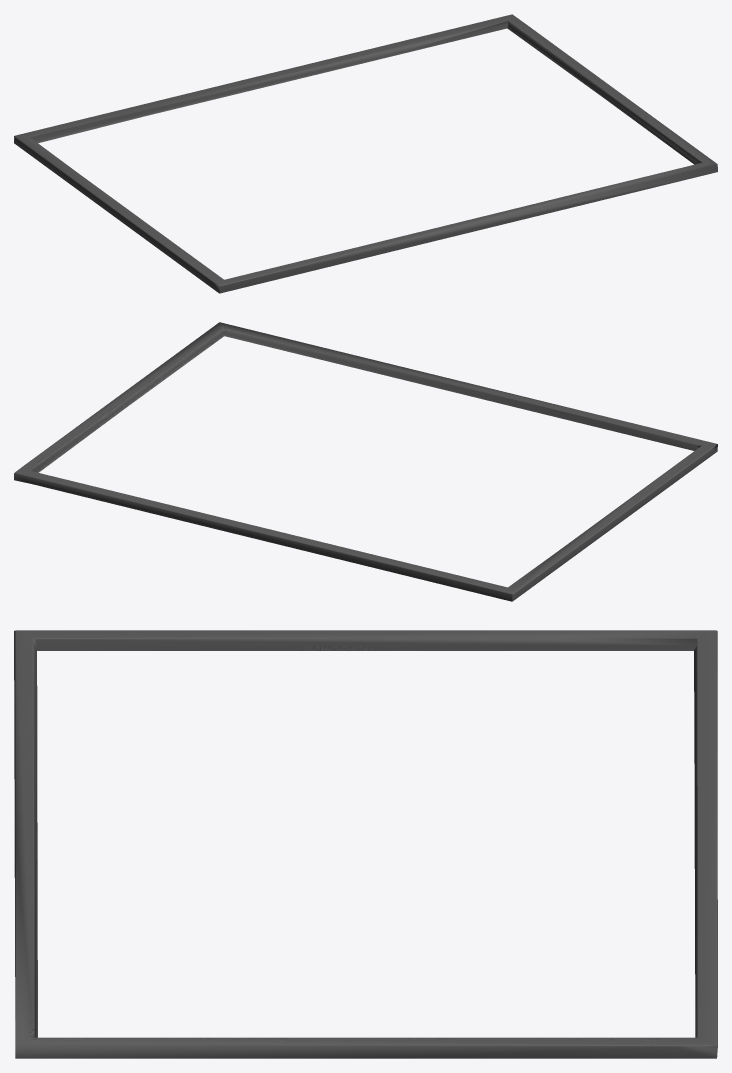
The model's file is s645bh1qbnee.glb.
3 renders of one model, top to bottom at view 1: azimuth 30°, elevation 25°; view 2: azimuth 150°, elevation 25°; view 3: azimuth 270°, elevation 25°, orthographic. The views are drawn at different scales.
Visible parts, largest first — view 1: ProcessedMeshNode; view 2: ProcessedMeshNode; view 3: ProcessedMeshNode.
Boxes of the visible parts, <box> form: ProcessedMeshNode: <box>14,14,717,293</box>; ProcessedMeshNode: <box>14,322,717,601</box>; ProcessedMeshNode: <box>14,630,717,1058</box>.
Size of the model in its own units: 1.4 by 0.0219 by 1.
1 material, 1 textured.
